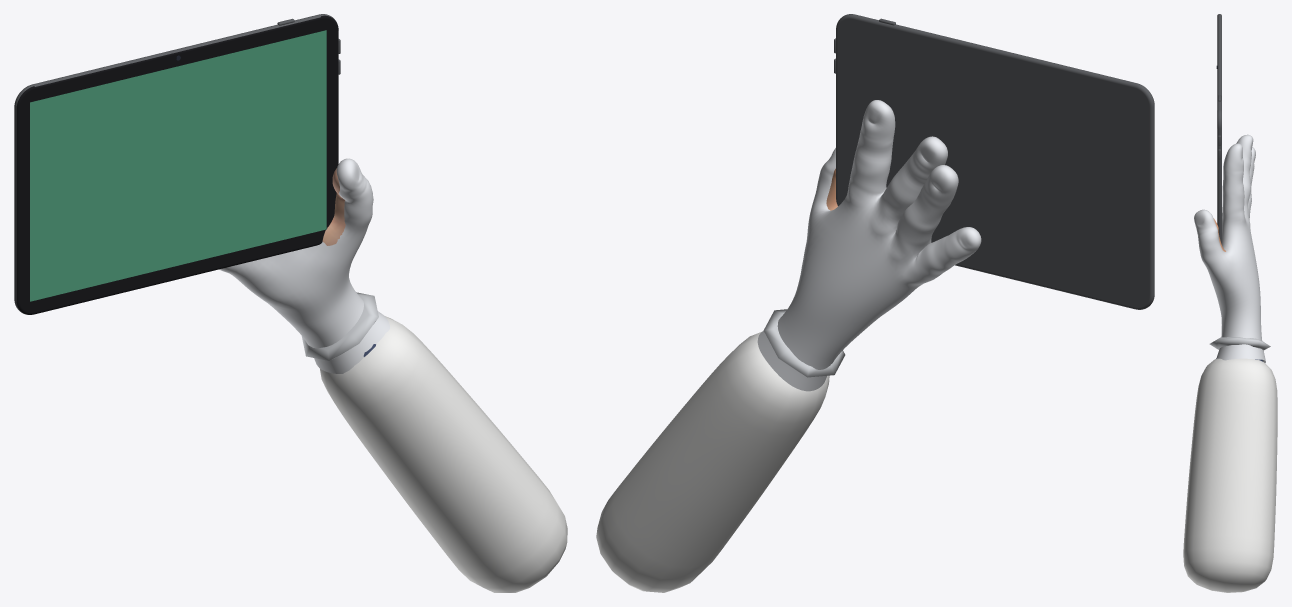
File: tablet.glb
3 views of the same model, side by side, from view 1: azimuth 30°, elevation 25°; view 2: azimuth 150°, elevation 25°; view 3: azimuth 270°, elevation 25° (orthographic). The views are drawn at different scales.
Visible parts, largest first — view 1: Ecran_Tablette, Manche_Combinaison, Tablette_Coque, Gant_Droit, Gant_Bague, Main_Droite; view 2: Tablette_Coque, Manche_Combinaison, Gant_Droit, Gant_Bague; view 3: Manche_Combinaison, Gant_Droit, Tablette_Coque, Gant_Bague.
Boxes of the visible parts, <box> form: Ecran_Tablette: <box>30,30,326,301</box>; Manche_Combinaison: <box>320,316,567,592</box>; Tablette_Coque: <box>14,14,338,314</box>; Gant_Droit: <box>219,158,389,373</box>; Gant_Bague: <box>301,292,378,360</box>; Main_Droite: <box>322,168,345,245</box>; Tablette_Coque: <box>836,14,1154,309</box>; Manche_Combinaison: <box>596,332,829,592</box>; Gant_Droit: <box>757,100,981,391</box>; Gant_Bague: <box>763,309,845,377</box>; Manche_Combinaison: <box>1183,358,1277,592</box>; Gant_Droit: <box>1194,134,1265,362</box>; Tablette_Coque: <box>1217,14,1221,244</box>; Gant_Bague: <box>1209,337,1270,350</box>.
Bounding box in the file's own units: 0.476 × 0.5162 × 0.1049.
9 materials, 1 textured.
